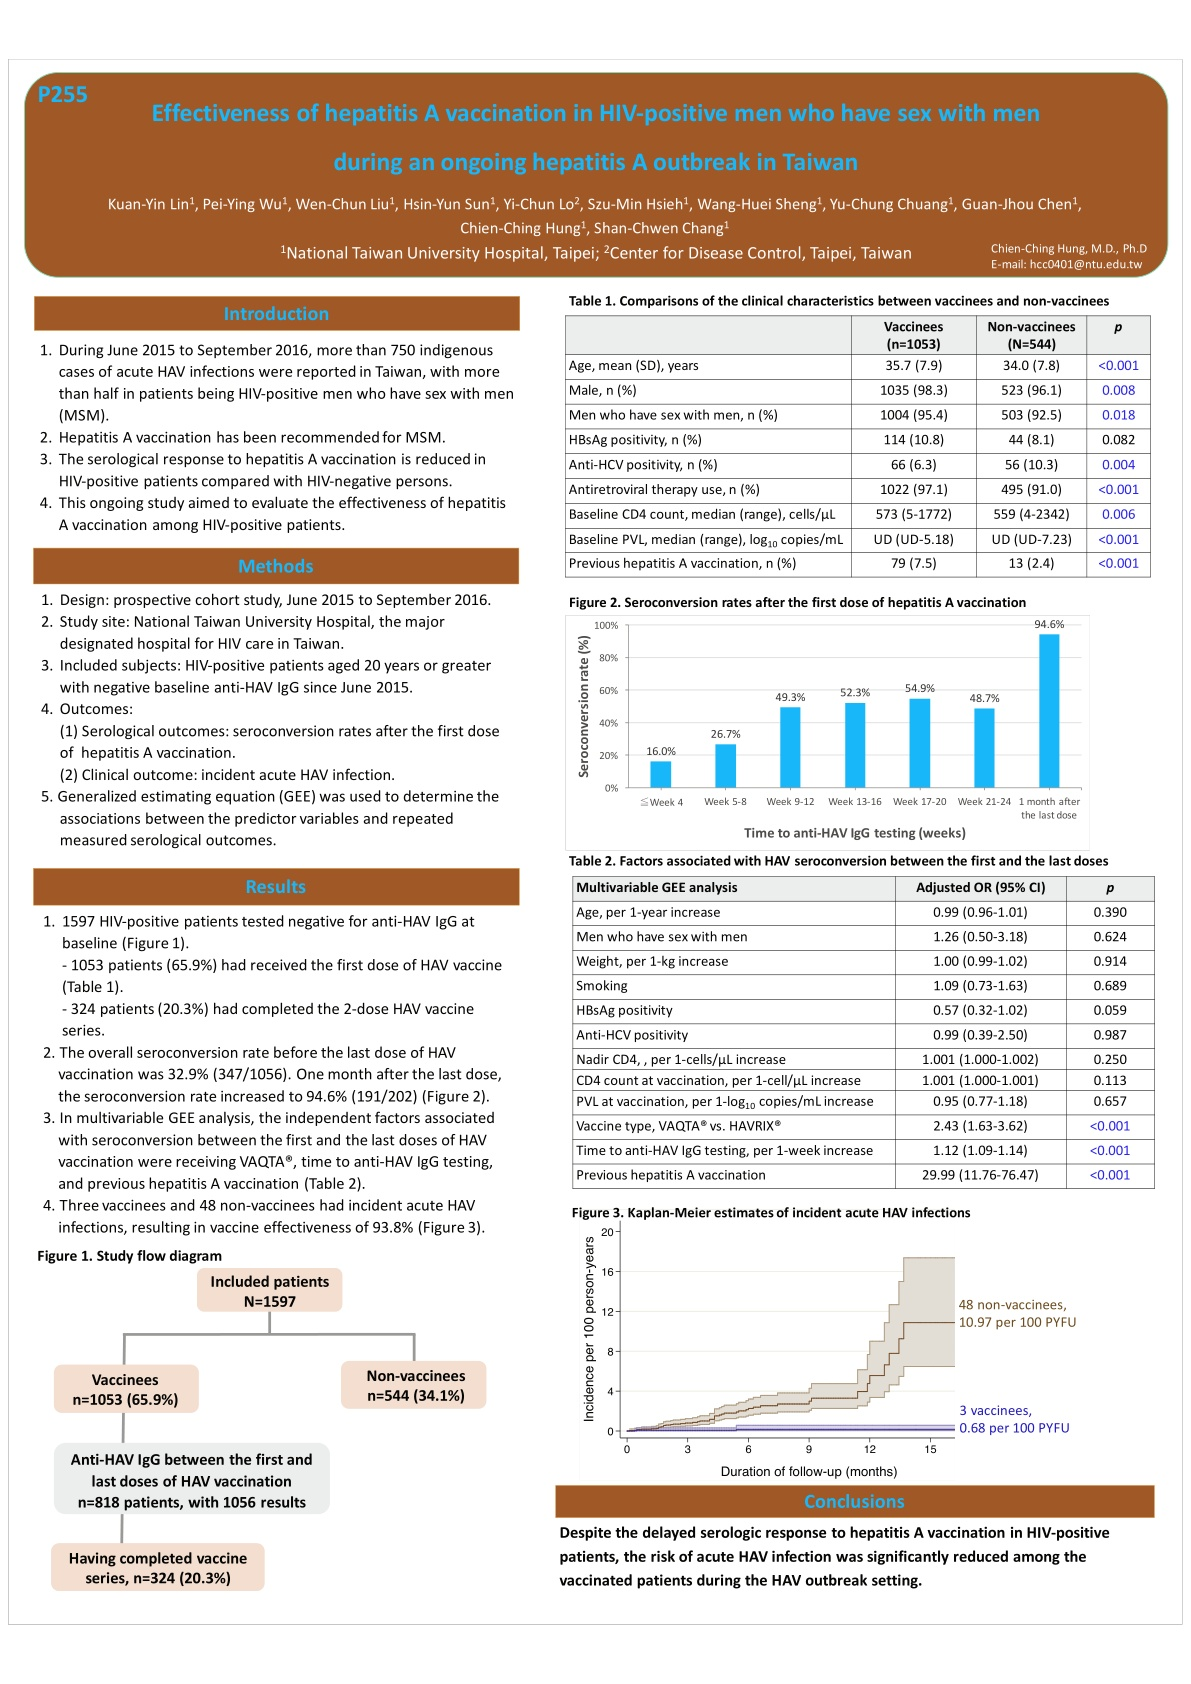full_lined: (571, 875, 1155, 1189), (565, 313, 1151, 579)
